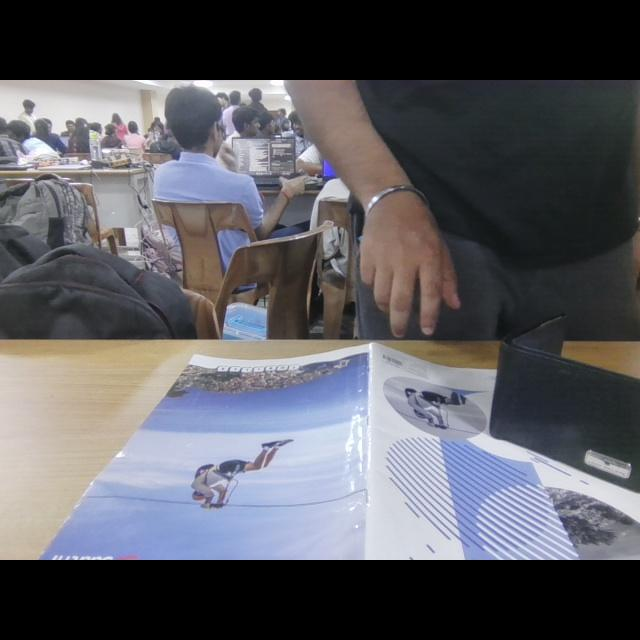wallet: (482, 313, 640, 497)
